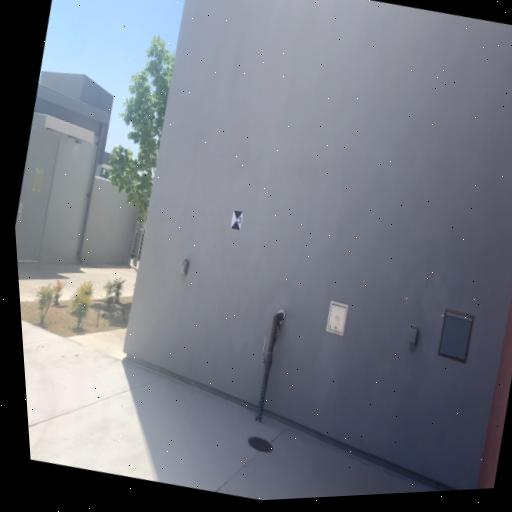target5: (230, 209, 243, 231)
